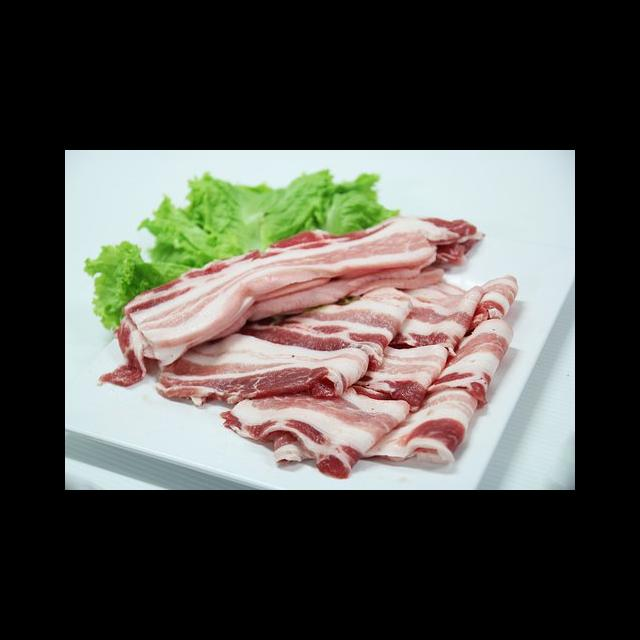pork: (237, 386, 403, 476), (410, 277, 510, 399), (122, 269, 244, 365), (334, 215, 483, 284), (287, 295, 401, 367)
